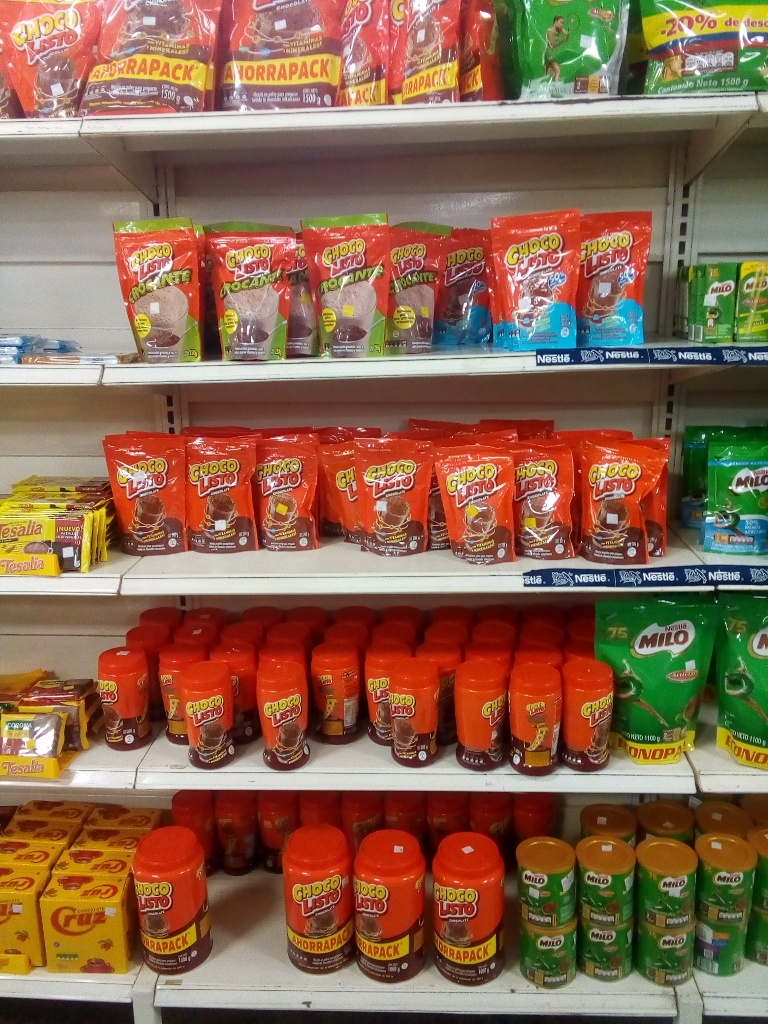COL0170102DYP25000: (110, 216, 207, 367)
COL0170103DYP1,500: (82, 0, 223, 115)
COL0170103DYP20000: (105, 426, 185, 565)
COL0170103DYP44000: (397, 3, 465, 105)
COL0170103TRR00100: (134, 828, 226, 975)
COL0170103TRR30000: (94, 645, 152, 749)
COL0170104DYP20000: (494, 204, 581, 349)
COL0170203LAT40000: (513, 835, 573, 927)
COL0170205DYP20000: (686, 430, 767, 562)
COL0170205DYP50000: (507, 2, 629, 99)
